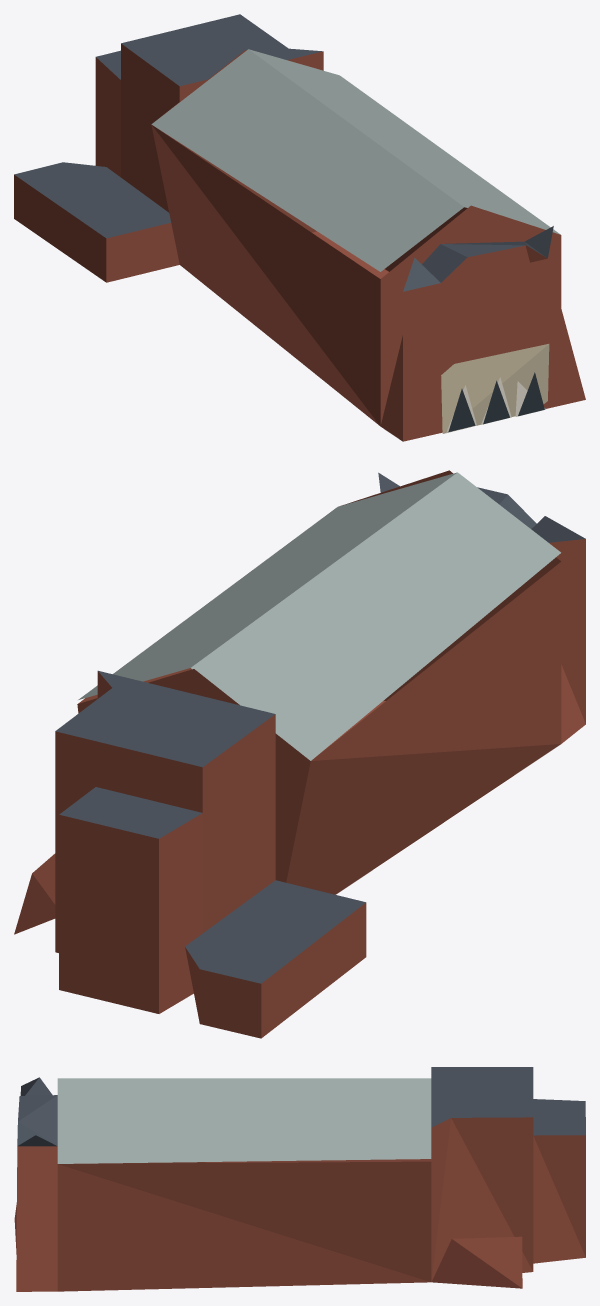
The model's file is boom-chicago.lod2.glb.
The picture shows the model from 3 angles, top to bottom: view 1: azimuth 30°, elevation 25°; view 2: azimuth 150°, elevation 25°; view 3: azimuth 270°, elevation 25°; orthographic projection. The views are drawn at different scales.
Visible parts, largest first — view 1: lod2; view 2: lod2; view 3: lod2.
Boxes of the visible parts, x1,y1,x2,y2 form: lod2: [14, 14, 585, 441]; lod2: [14, 470, 585, 1038]; lod2: [14, 1067, 585, 1291].
Bounding box in the file's own units: 18.53 × 14.47 × 43.54.
